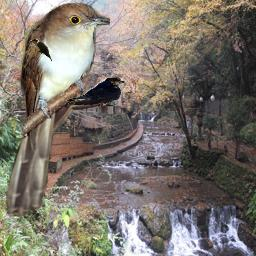Cuckoo: (6, 1, 110, 216), (29, 39, 52, 62)
Swallow: (67, 77, 126, 110)
